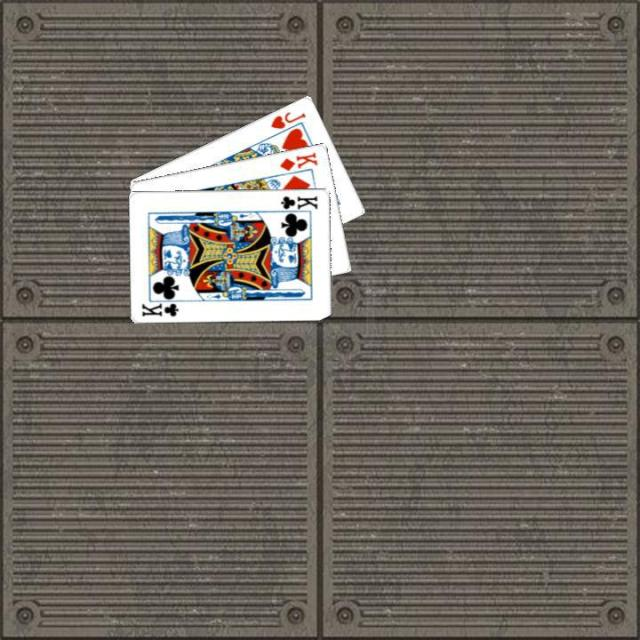JH: (266, 108, 308, 130)
KC: (139, 294, 185, 318), (274, 192, 319, 214)
KD: (276, 148, 320, 172)
